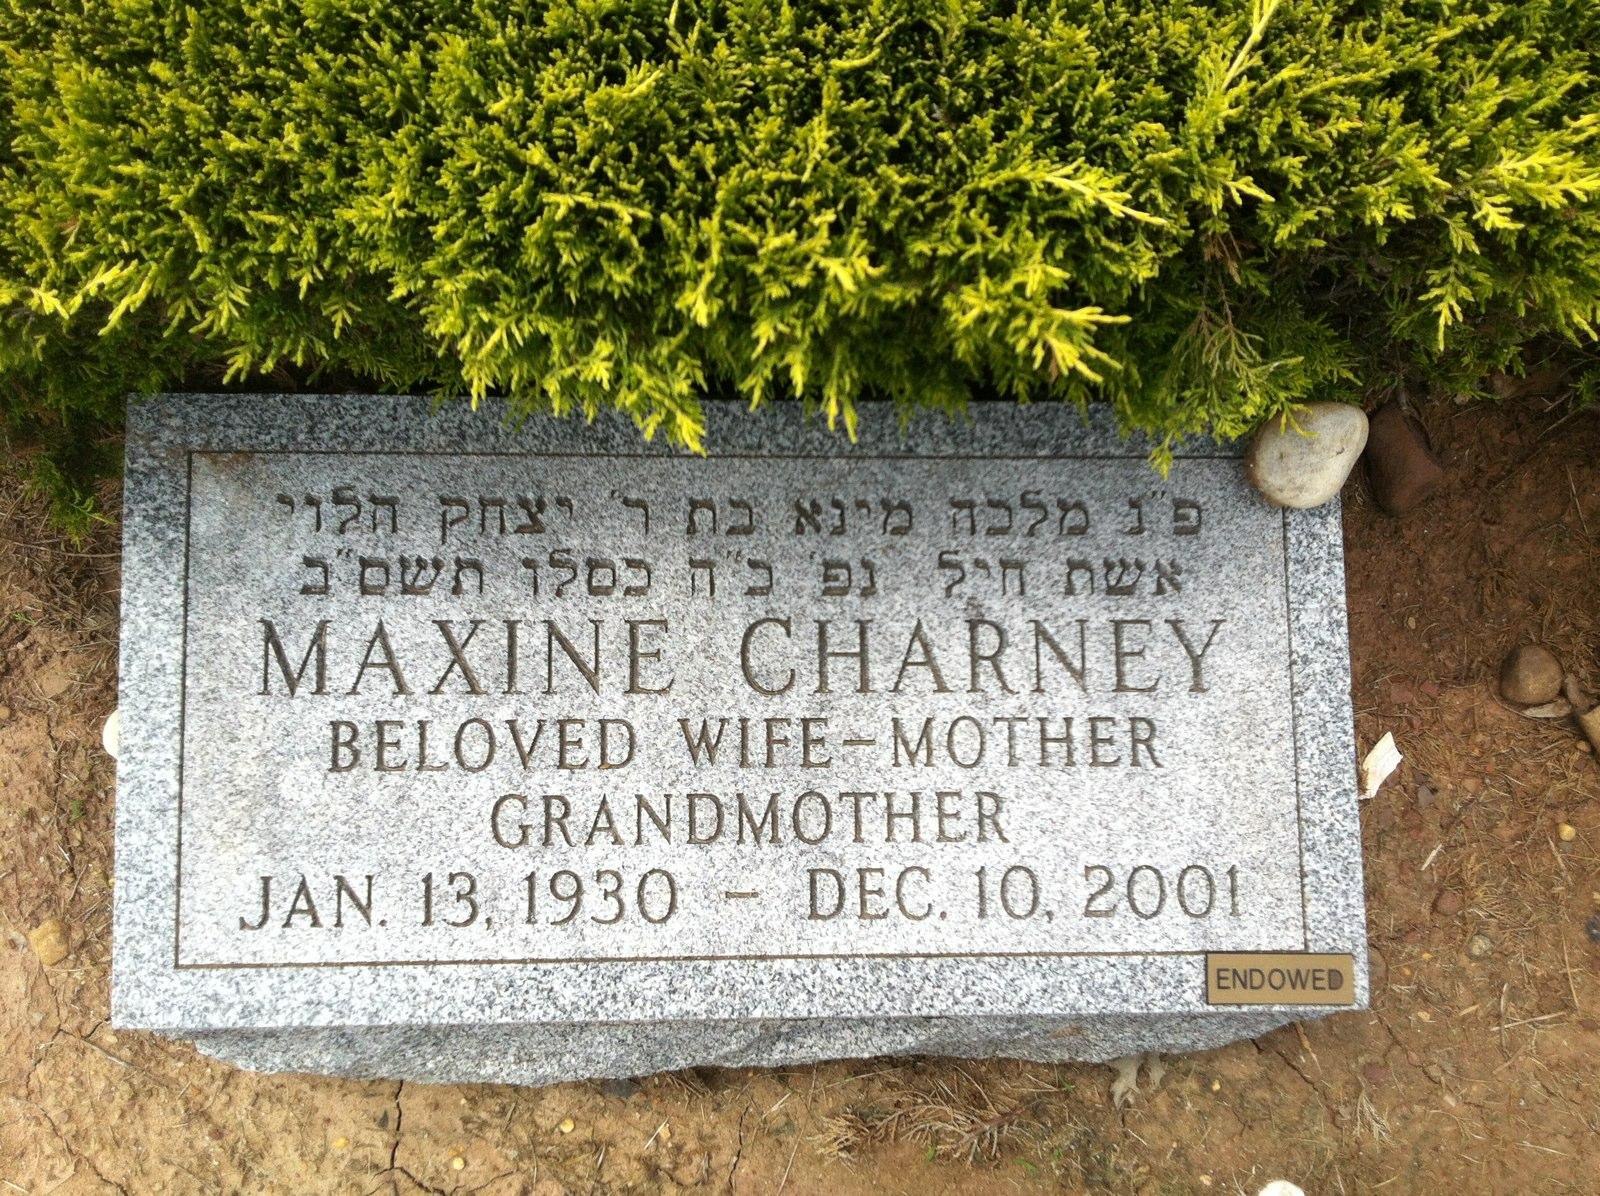flat: (122, 376, 1366, 1036)
